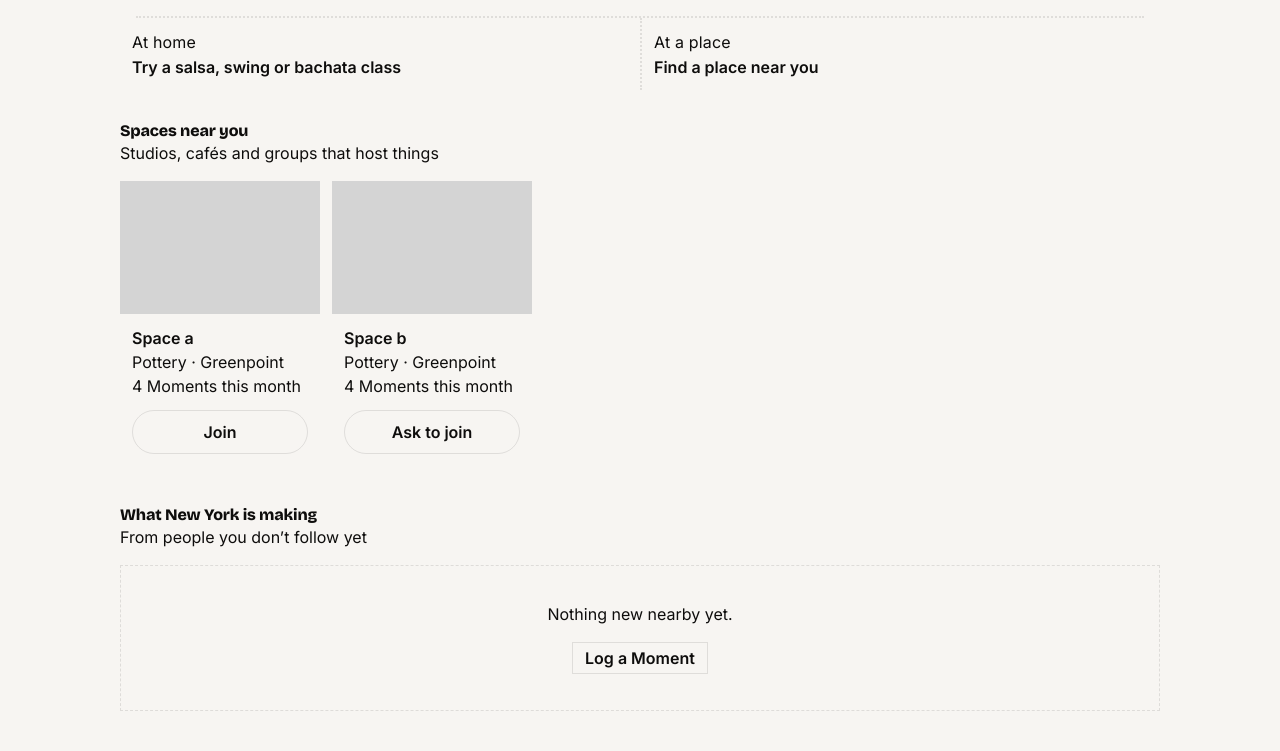
Test: Discover Corners and Spaces › offers Join on an Open Space and Ask to join on a Closed one, and hides one once joined
(page scrolled)
Expected: the button "Ask to join" is shown, [344,410,520,454]
Expected: the text "4 Moments this month" is shown 2 times, [132,374,308,398]; [344,374,520,398]
Click the button "Join": (220, 432) [132,410,308,454]
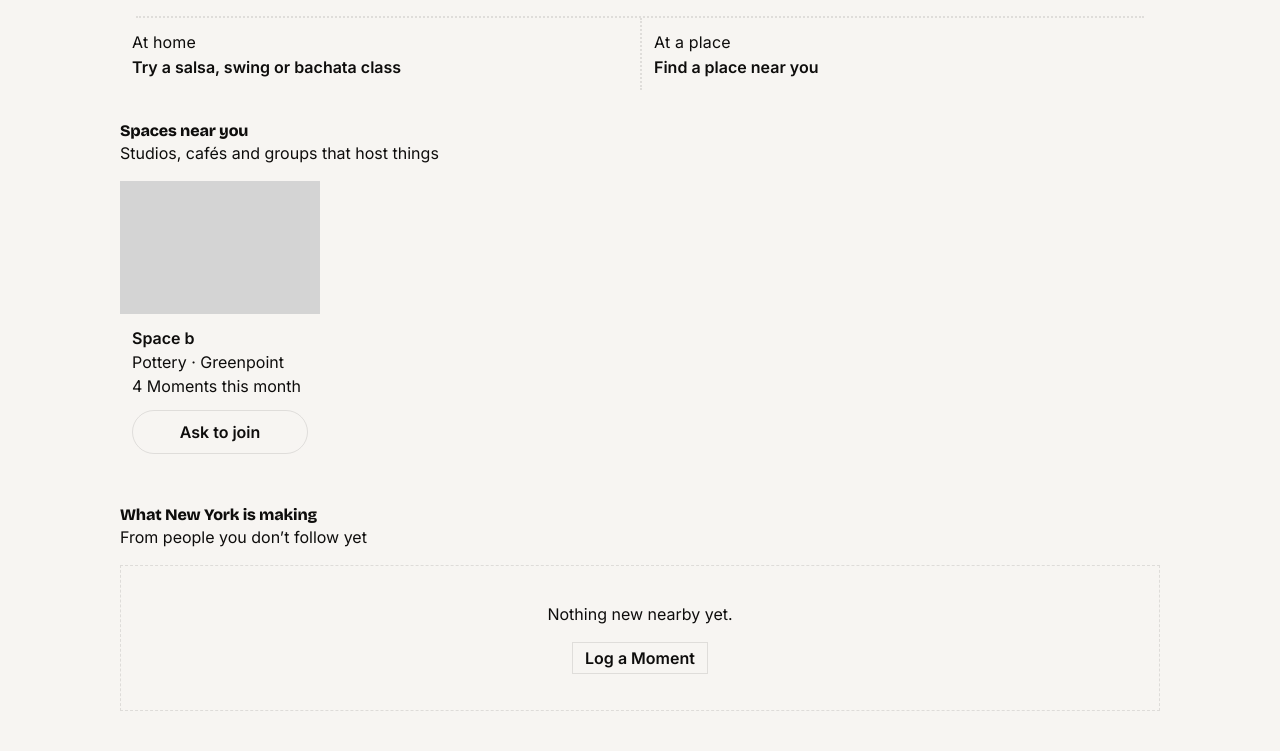
Expected: the text "Space b" is shown, [132,328,194,348]
Expected: the link "Space a" is gone
